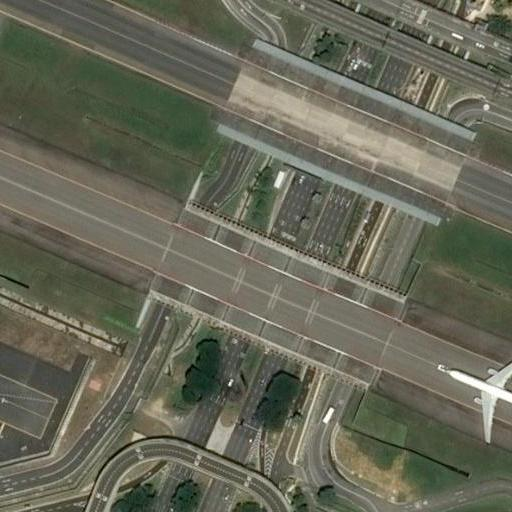Aircraft: (439, 343, 512, 447), (437, 344, 512, 443)
